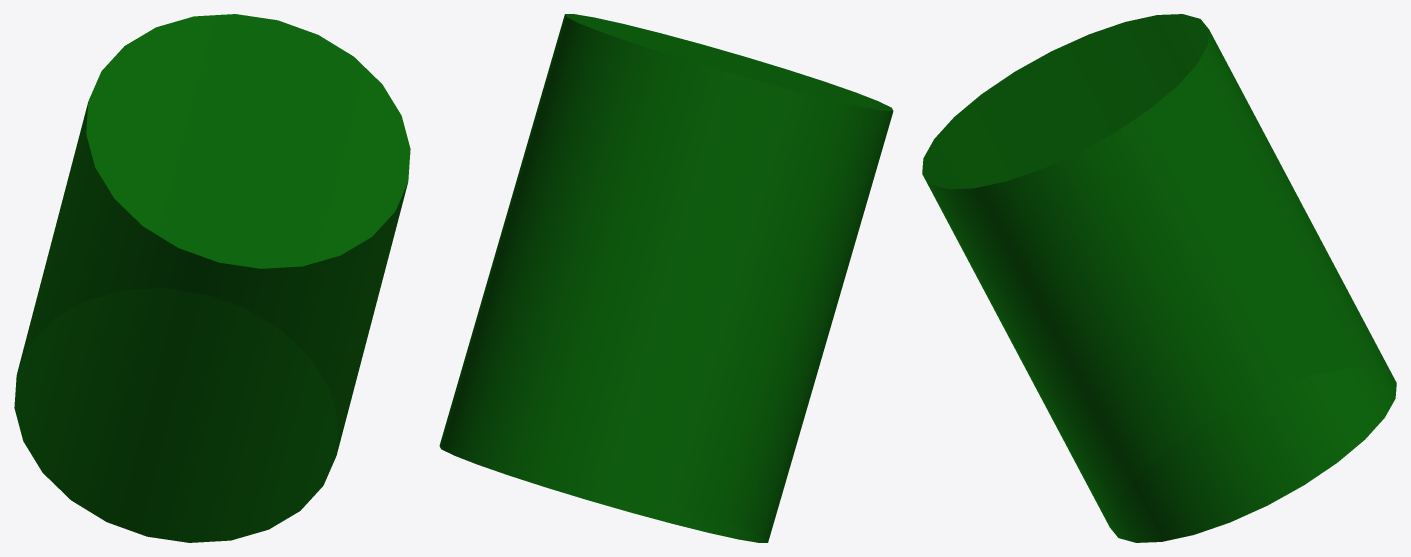
The model's file is Event_134586304_jet_5.fbx.
The picture shows the model from 3 angles, left to right: view 1: azimuth 30°, elevation 25°; view 2: azimuth 150°, elevation 25°; view 3: azimuth 270°, elevation 25°; orthographic projection. The views are drawn at different scales.
Parts seen in each view (by area): view 1: Model; view 2: Model; view 3: Model.
Boxes of the visible parts, bbox=[...] form: Model: bbox=[14, 14, 410, 542]; Model: bbox=[439, 14, 893, 542]; Model: bbox=[922, 14, 1396, 542].
Bounding box in the file's own units: 0.043 × 0.0648 × 0.059.
